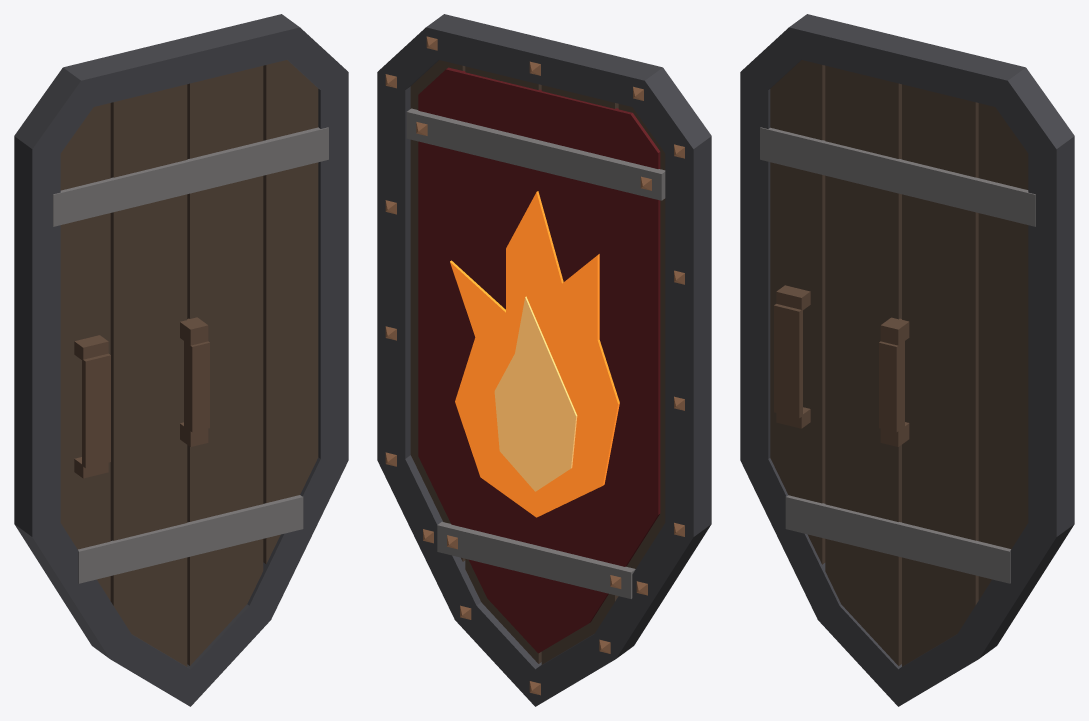
Rendered from held-tower-shield.glb.
3 renders of one model, left to right at view 1: azimuth 30°, elevation 25°; view 2: azimuth 150°, elevation 25°; view 3: azimuth 330°, elevation 25°, orthographic.
Visible parts, largest first — view 1: planks, rim, bands_back, arm_strap, grip; view 2: field, rim, emblem_flame, bands_front, planks, emblem_core, rivets; view 3: planks, rim, bands_back, arm_strap, grip.
Part boxes in pixels (x1=…): planks: x1=60, y1=60, x2=318, y2=666; rim: x1=14, y1=14, x2=348, y2=706; bands_back: x1=53, y1=127, x2=328, y2=583; arm_strap: x1=74, y1=335, x2=110, y2=478; grip: x1=180, y1=317, x2=209, y2=446; field: x1=418, y1=67, x2=660, y2=653; rim: x1=377, y1=14, x2=711, y2=706; emblem_flame: x1=450, y1=191, x2=619, y2=517; bands_front: x1=406, y1=108, x2=665, y2=598; planks: x1=410, y1=60, x2=665, y2=664; emblem_core: x1=494, y1=296, x2=577, y2=491; rivets: x1=385, y1=36, x2=684, y2=695; planks: x1=770, y1=60, x2=1028, y2=666; rim: x1=740, y1=14, x2=1074, y2=706; bands_back: x1=760, y1=127, x2=1035, y2=583; arm_strap: x1=774, y1=285, x2=810, y2=428; grip: x1=879, y1=317, x2=909, y2=446.
Size of what is drawn, in the model's own units: 0.62 by 1.22 by 0.114.
